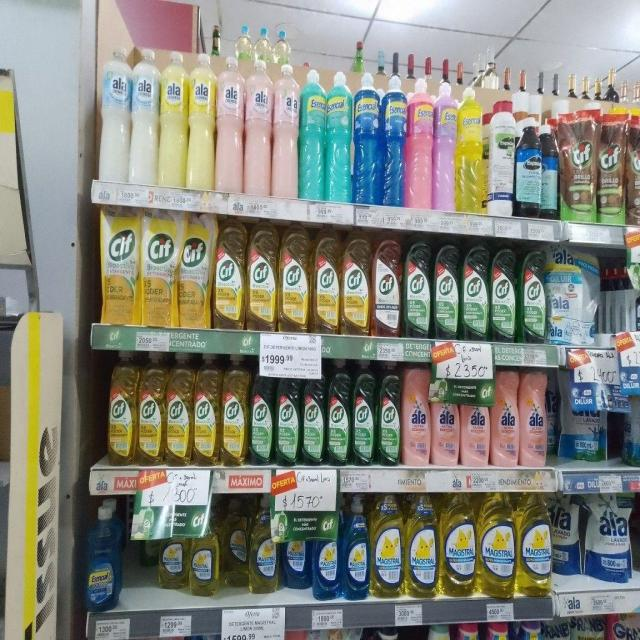ala_conc_amarillo: (587, 615, 606, 640)
ala_conc_azul: (546, 618, 570, 640)
ala_conc_rojo: (608, 612, 627, 640)
ala_crem_amarillo: (160, 50, 188, 188), (188, 53, 215, 191)
ala_crem_blanco: (98, 48, 130, 184), (130, 48, 158, 186)
ala_crem_rosado: (244, 59, 272, 197), (216, 55, 243, 195), (273, 63, 299, 198)
ala_ultra_rosa: (402, 359, 431, 467), (431, 366, 460, 467), (491, 368, 519, 468), (520, 368, 548, 468), (461, 372, 490, 467)
cif_conc_bot_amarilla: (213, 218, 245, 330), (107, 349, 137, 467), (246, 222, 276, 331), (279, 226, 309, 333), (342, 231, 371, 336), (138, 350, 164, 466), (166, 350, 192, 466), (311, 230, 340, 334), (194, 352, 220, 466), (222, 353, 248, 466)
cif_conc_botella_roja: (372, 235, 402, 339)
cif_conc_botella_verde: (403, 239, 432, 339), (461, 242, 489, 341), (326, 358, 351, 467), (301, 359, 326, 466), (519, 247, 546, 344), (352, 358, 376, 467), (275, 363, 300, 467), (377, 359, 401, 467), (250, 359, 274, 465), (491, 245, 517, 342), (434, 241, 459, 340)
cif_conc_sachet_amarillo: (99, 204, 139, 326), (141, 208, 177, 328), (179, 211, 212, 329)
magistral_con_amarillo: (477, 491, 516, 598), (440, 491, 476, 597), (517, 491, 552, 597), (371, 492, 404, 598), (405, 492, 438, 598), (250, 495, 278, 593), (190, 506, 220, 596), (222, 496, 248, 588), (158, 516, 189, 590)
magistral_con_azul: (83, 500, 122, 614), (342, 494, 370, 599), (312, 504, 341, 600), (282, 534, 310, 590)
